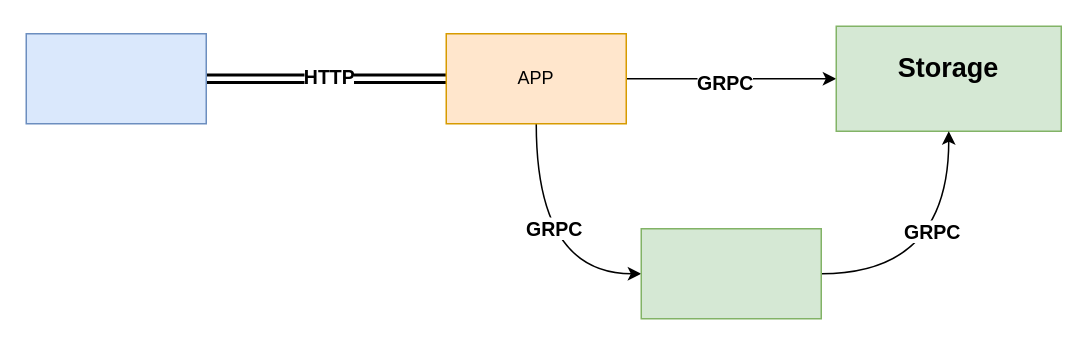
The diagram is 1088 pixels wide and 345 high, and some of its shapes have lost their labels. Each missing label, with the centre of its shape:
"Client" goes at pixel 115 78.
"Worker" goes at pixel 730 273.
